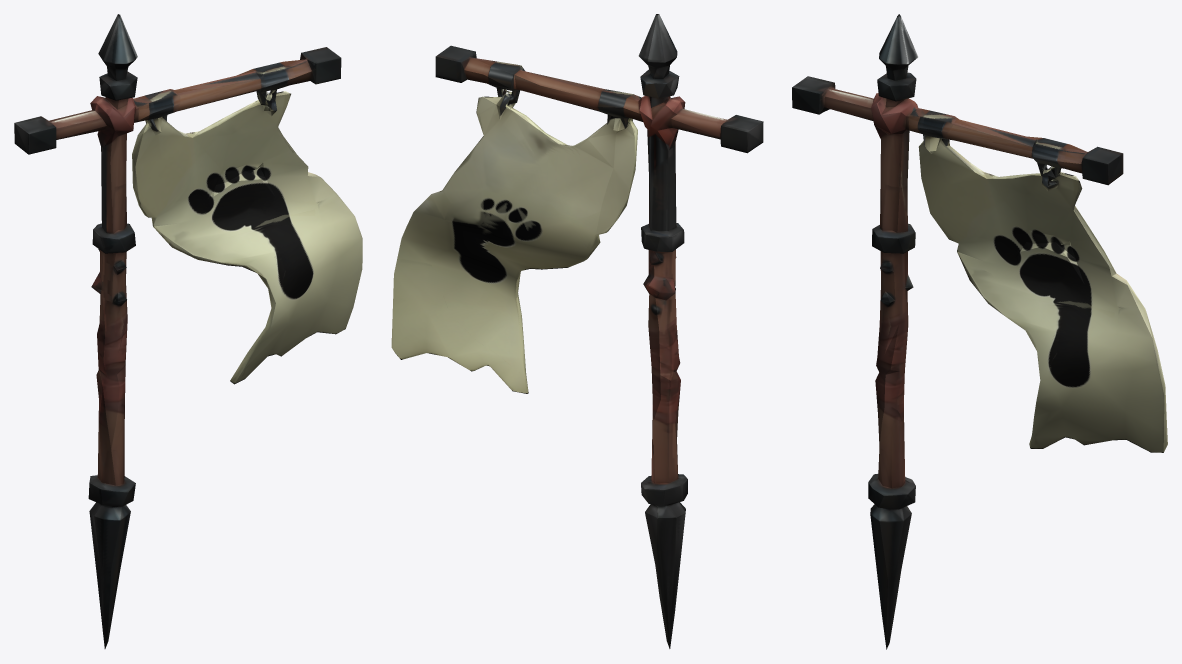
Rendered from Estandarte.glb.
3 views of the same model, side by side, from view 1: azimuth 30°, elevation 25°; view 2: azimuth 150°, elevation 25°; view 3: azimuth 330°, elevation 25° (orthographic).
Parts seen in each view (by area): view 1: el fondo debe ser blanco, en el estandarte debe haber una im; view 2: el fondo debe ser blanco, en el estandarte debe haber una im; view 3: el fondo debe ser blanco, en el estandarte debe haber una im.
Part boxes in pixels (x1,y1,x2,y2): el fondo debe ser blanco, en el estandarte debe haber una im: (14,14,362,648); el fondo debe ser blanco, en el estandarte debe haber una im: (391,14,763,648); el fondo debe ser blanco, en el estandarte debe haber una im: (792,14,1167,649).
Size of the model in its own units: 0.5806 by 1 by 0.0913.
1 material, 1 textured.
